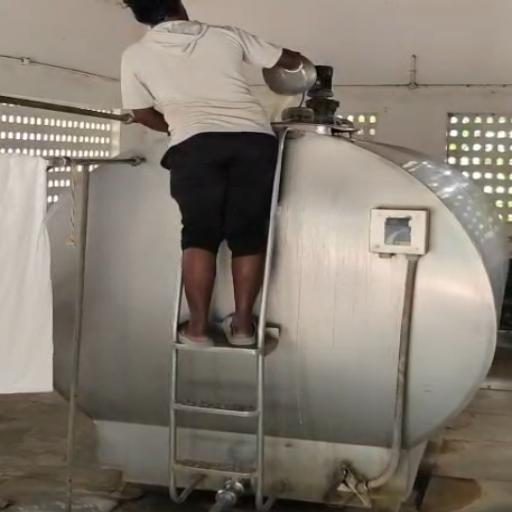silo: (48, 121, 510, 507)
vessel: (262, 55, 317, 98)
